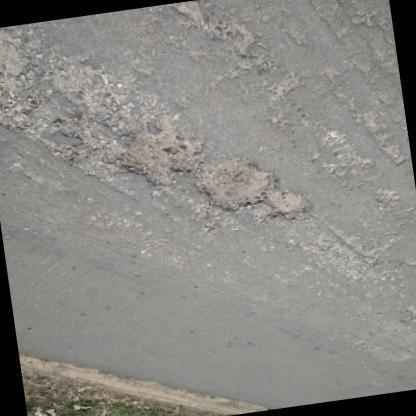pothole: (47, 61, 192, 182), (194, 152, 311, 218), (0, 22, 47, 133), (175, 3, 261, 59), (366, 115, 406, 171)
